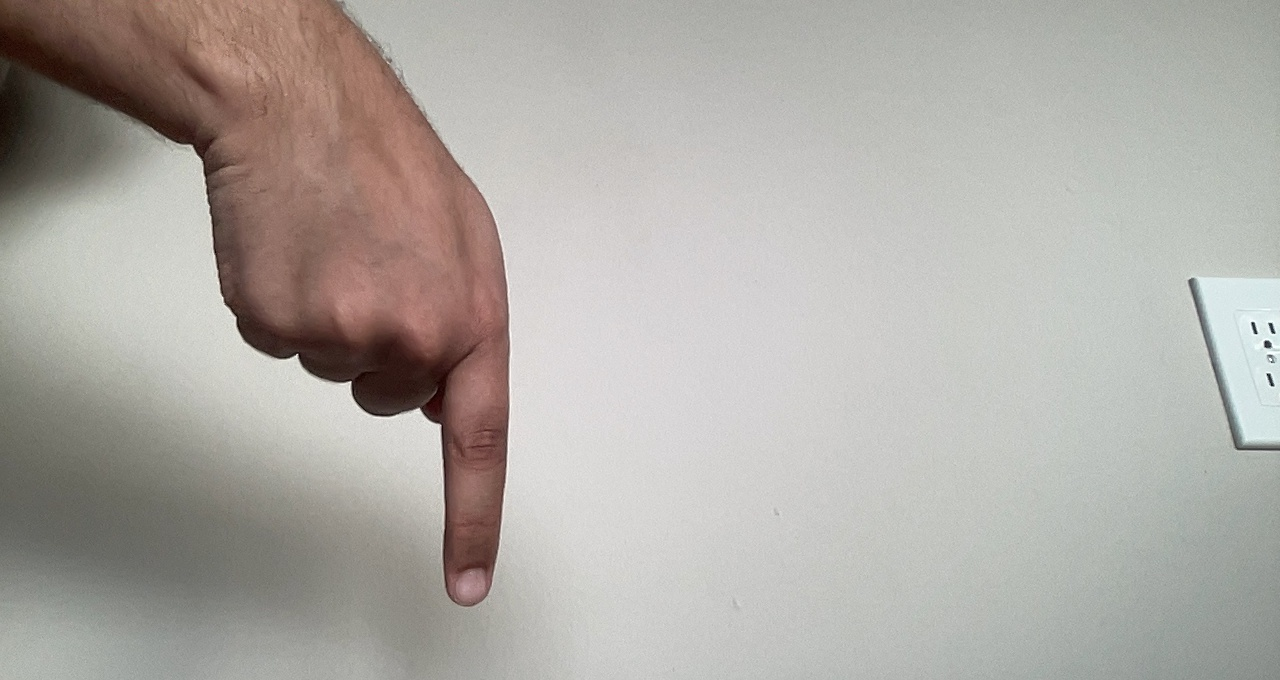fingerdown: (147, 63, 520, 605)
